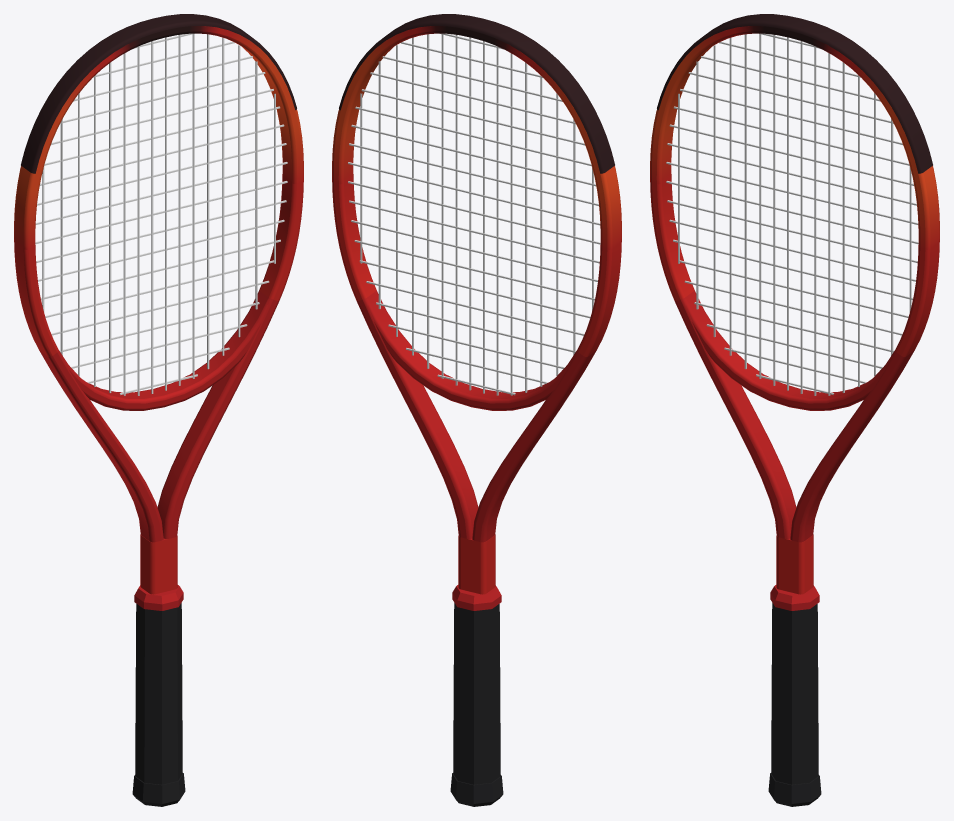
File: dunlop-cx-200-tour-2027.glb
The picture shows the model from 3 angles, left to right: view 1: azimuth 30°, elevation 25°; view 2: azimuth 150°, elevation 25°; view 3: azimuth 330°, elevation 25°; orthographic projection.
Parts seen in each view (by area): view 1: frame, strings_mains, strings_crosses, grip, bumper, butt_cap, collar; view 2: frame, strings_mains, strings_crosses, grip, bumper, butt_cap, collar; view 3: frame, strings_mains, strings_crosses, grip, bumper, butt_cap, collar.
Boxes of the visible parts, x1,y1,x2,y2 form: frame: (14,26,303,594); strings_mains: (42,33,275,395); strings_crosses: (35,33,287,394); grip: (135,603,182,784); bumper: (21,14,296,173); butt_cap: (132,773,185,806); collar: (134,585,183,610); frame: (332,26,621,594); strings_mains: (360,34,593,395); strings_crosses: (348,33,600,395); grip: (453,603,500,784); bumper: (339,14,614,173); butt_cap: (450,773,503,806); collar: (452,585,501,610); frame: (650,26,939,594); strings_mains: (678,33,911,395); strings_crosses: (666,33,918,394); grip: (771,603,818,784); bumper: (657,14,932,173); butt_cap: (768,773,821,806); collar: (770,585,819,610).
Bounding box in the file's own units: 0.2596 × 0.6861 × 0.0396.
